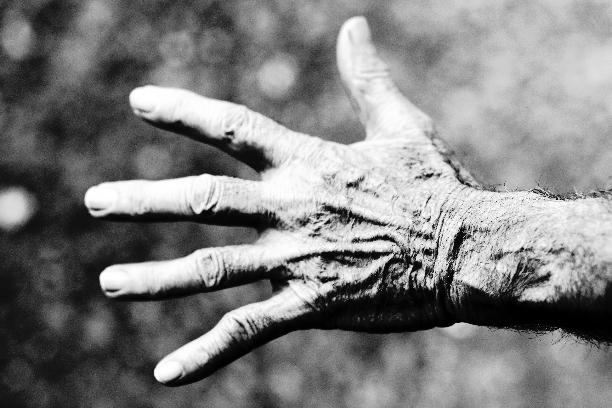Paper: (83, 11, 470, 389)
